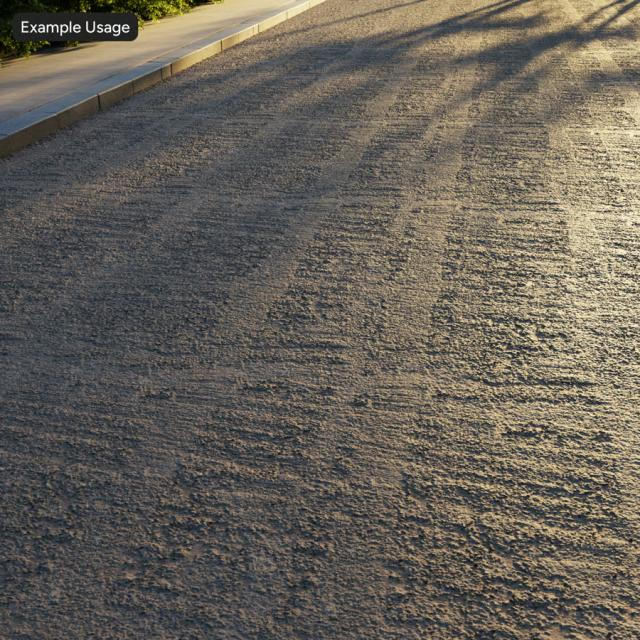suelo_compacto: (138, 146, 560, 552)
